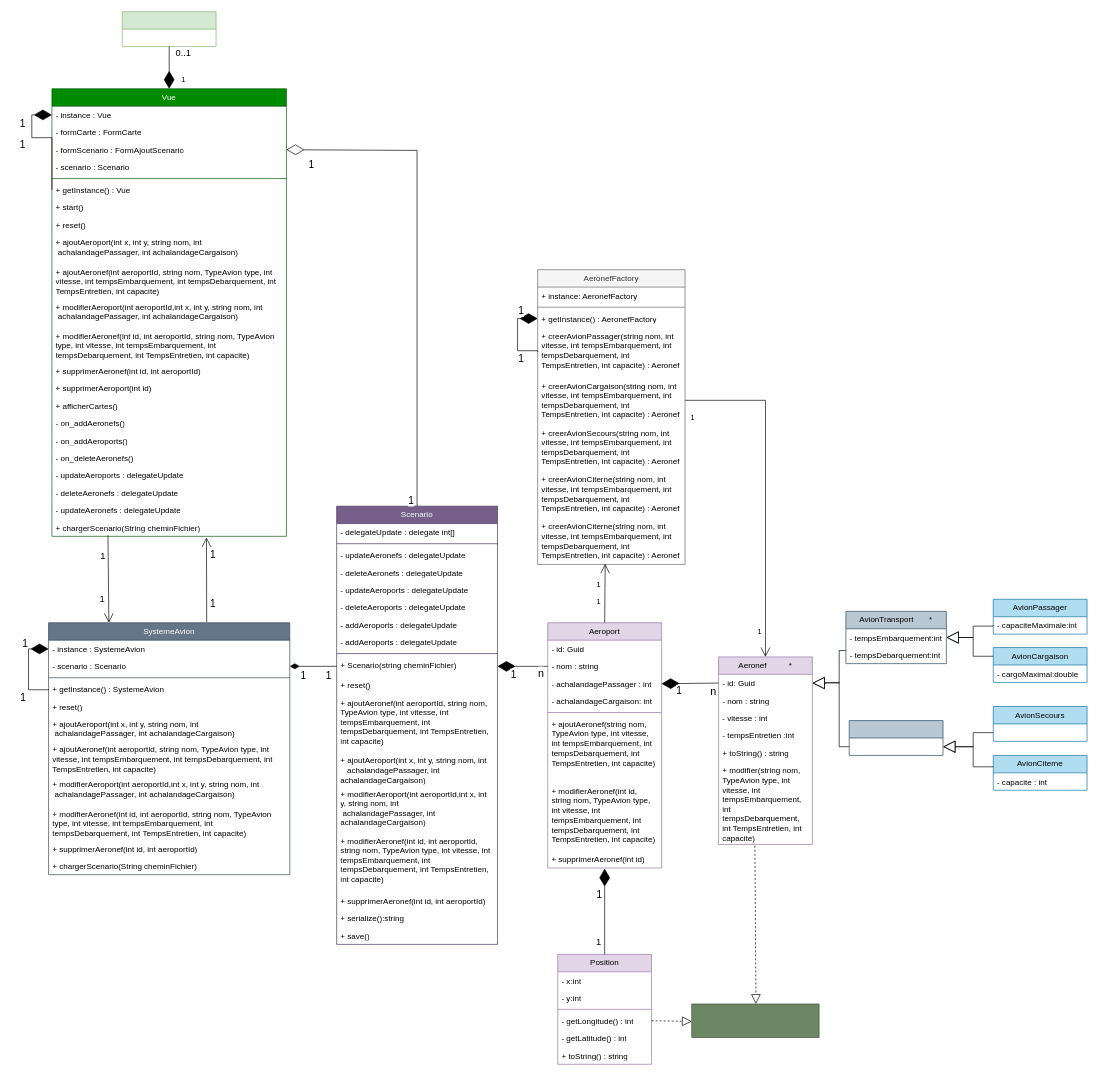
The diagram is 1099 pixels wide and 1078 high, and some of its shapes have lost their labels. Here are the shapes that lost their labels. From the top down, the centre of each, then its label:
At (x=169, y=29): "FormCarte".
At (x=896, y=737): "AvionService *".
At (x=755, y=1020): "<<Interface>> iClonable".
